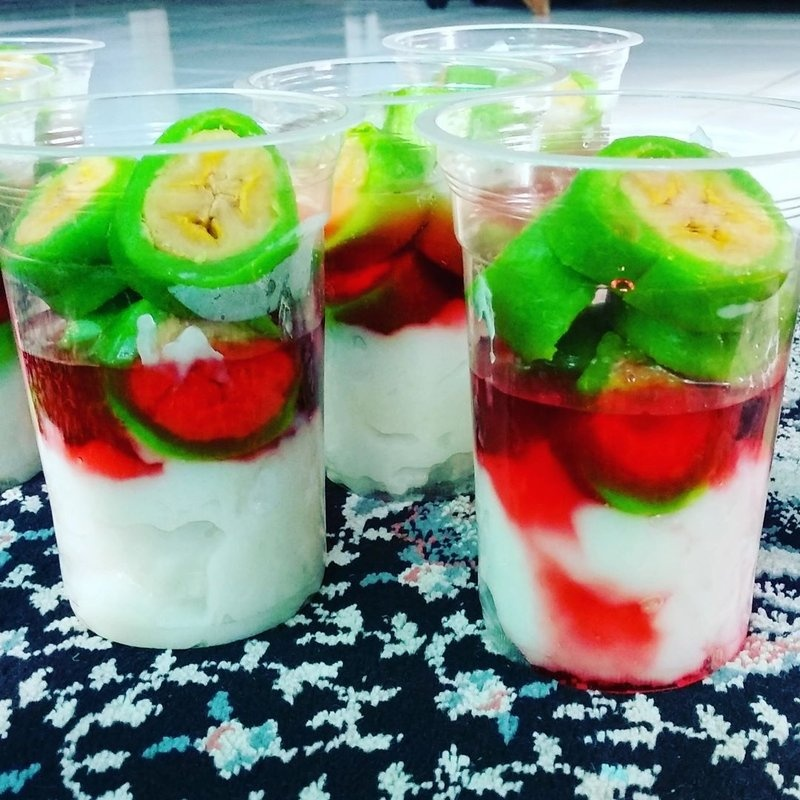pisang_ijo: (80, 98, 301, 306)
